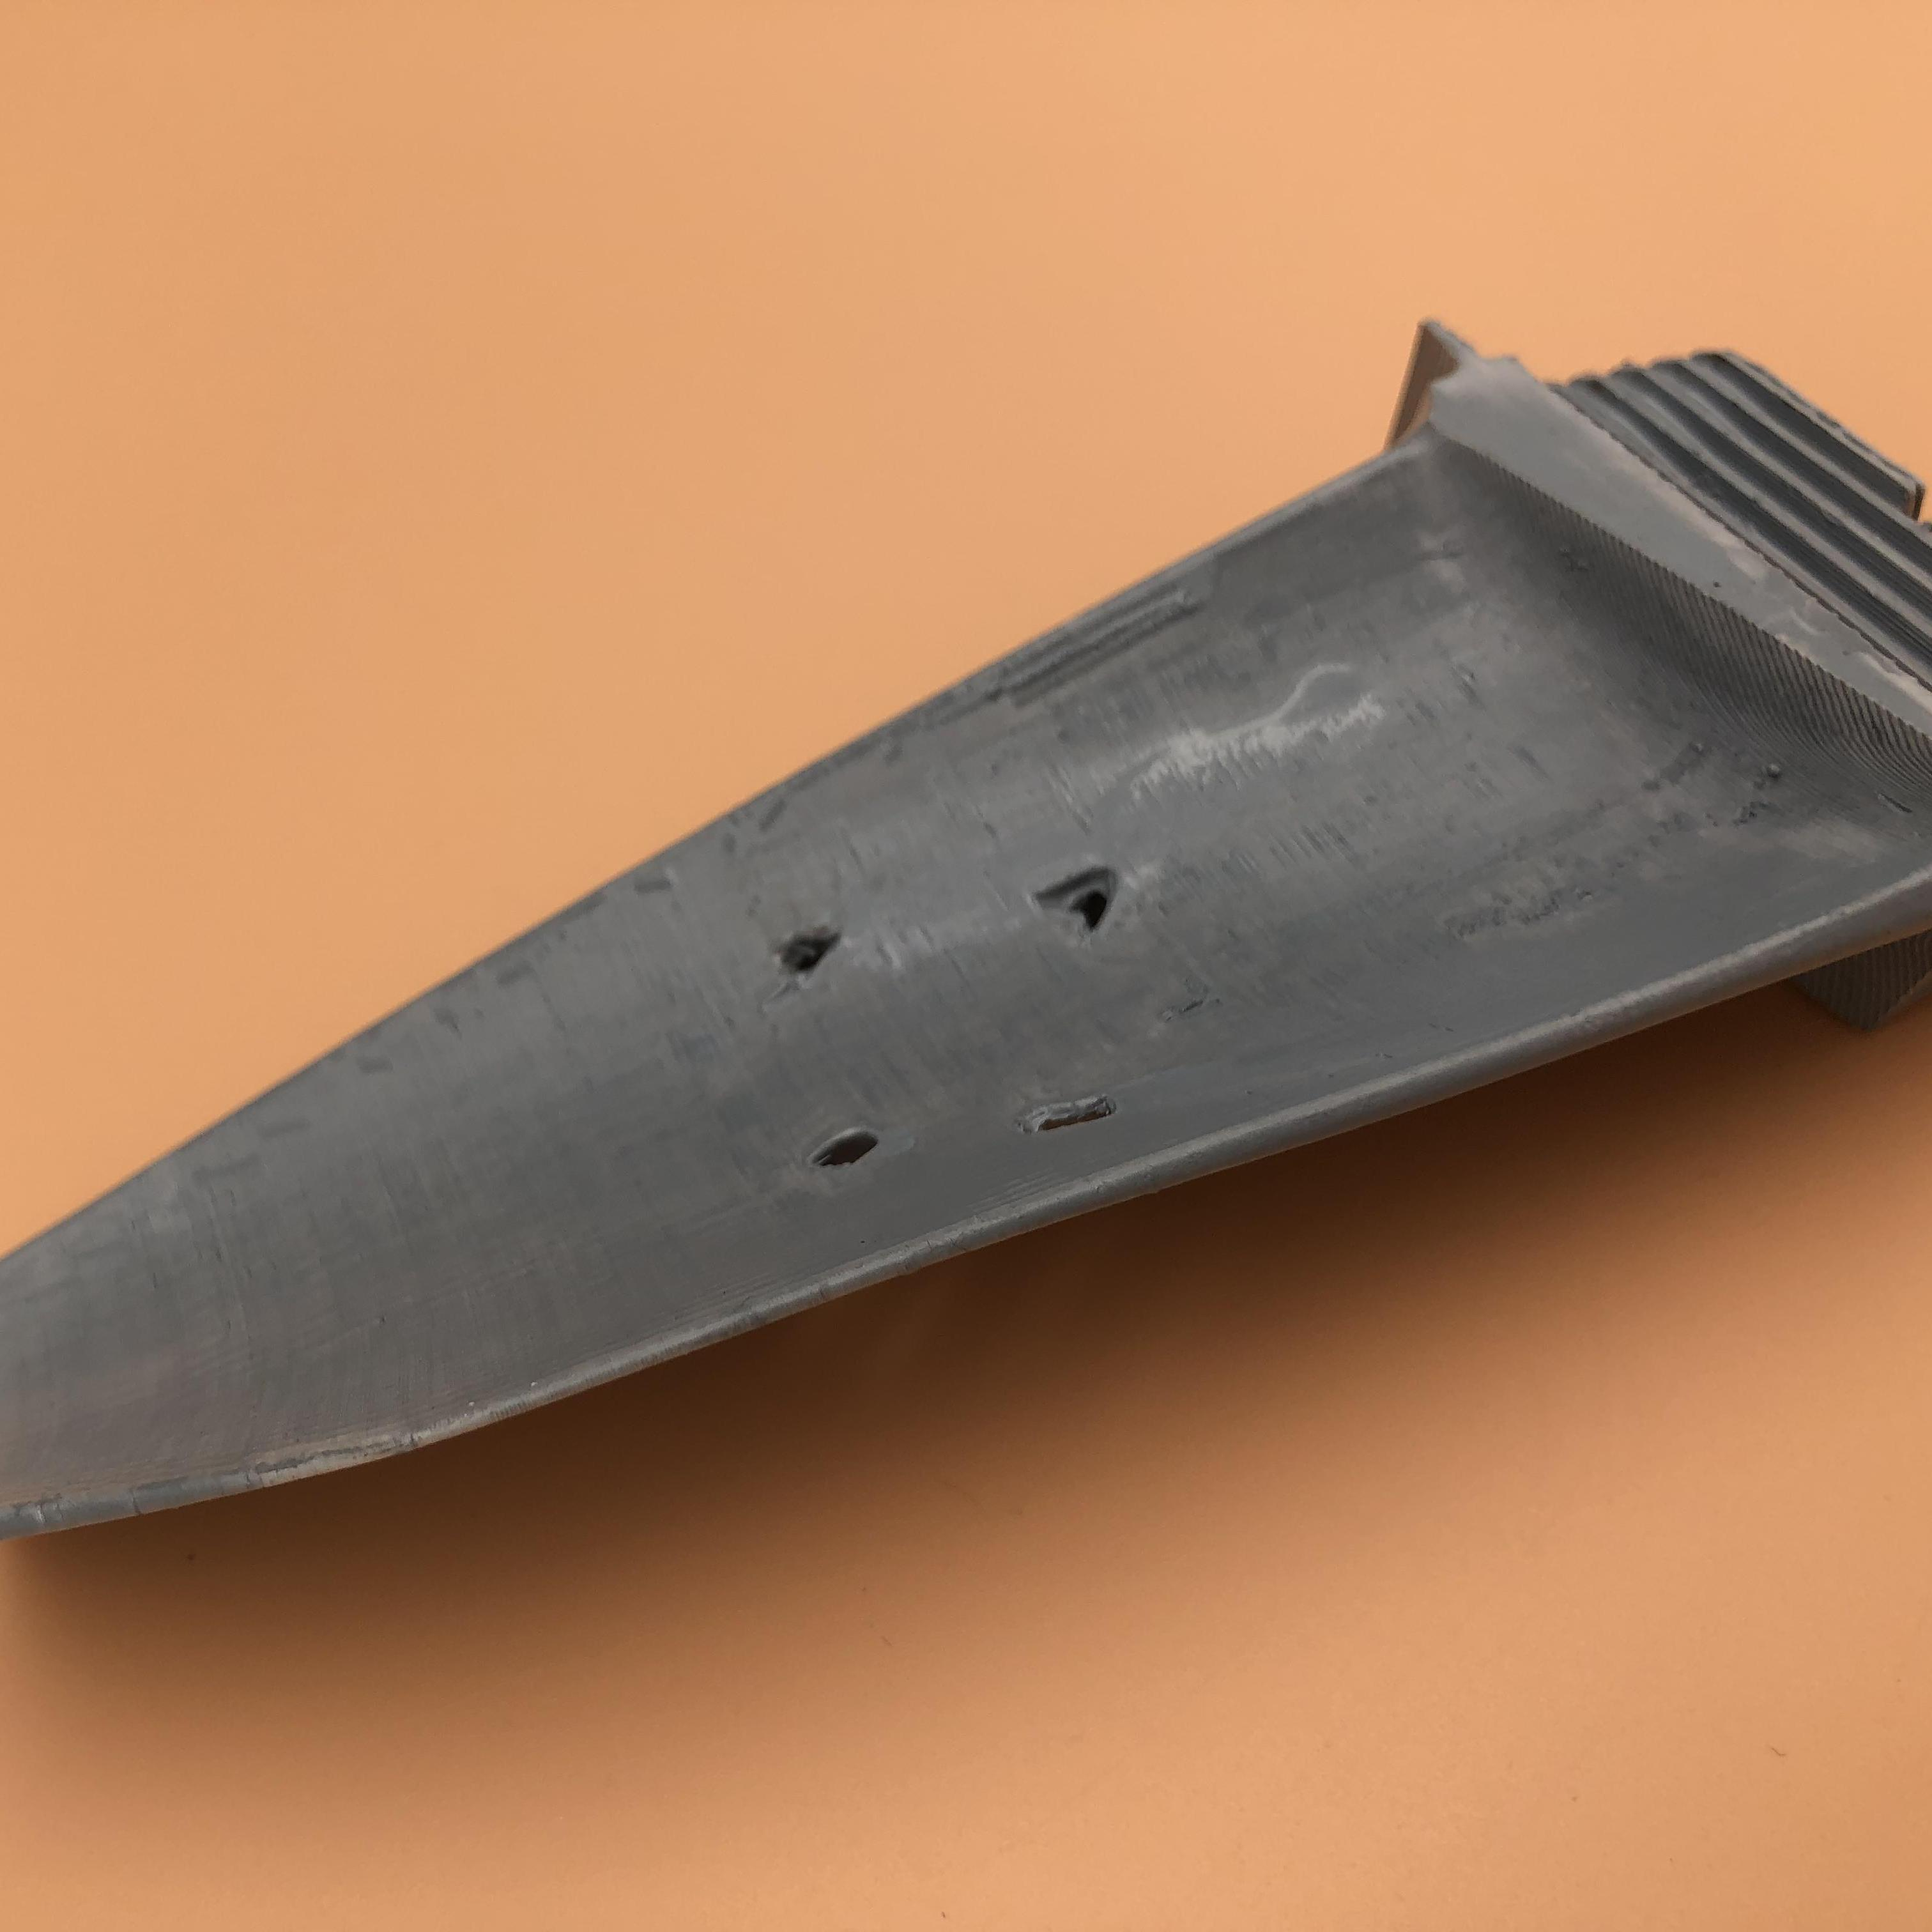breakdown: (1033, 844, 1134, 938), (755, 916, 869, 991), (800, 1113, 888, 1182), (1023, 1083, 1127, 1138)
